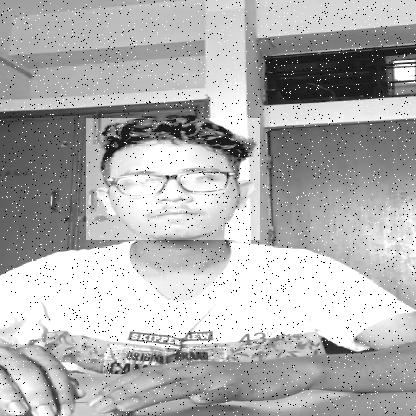Normal: (86, 118, 260, 240)
